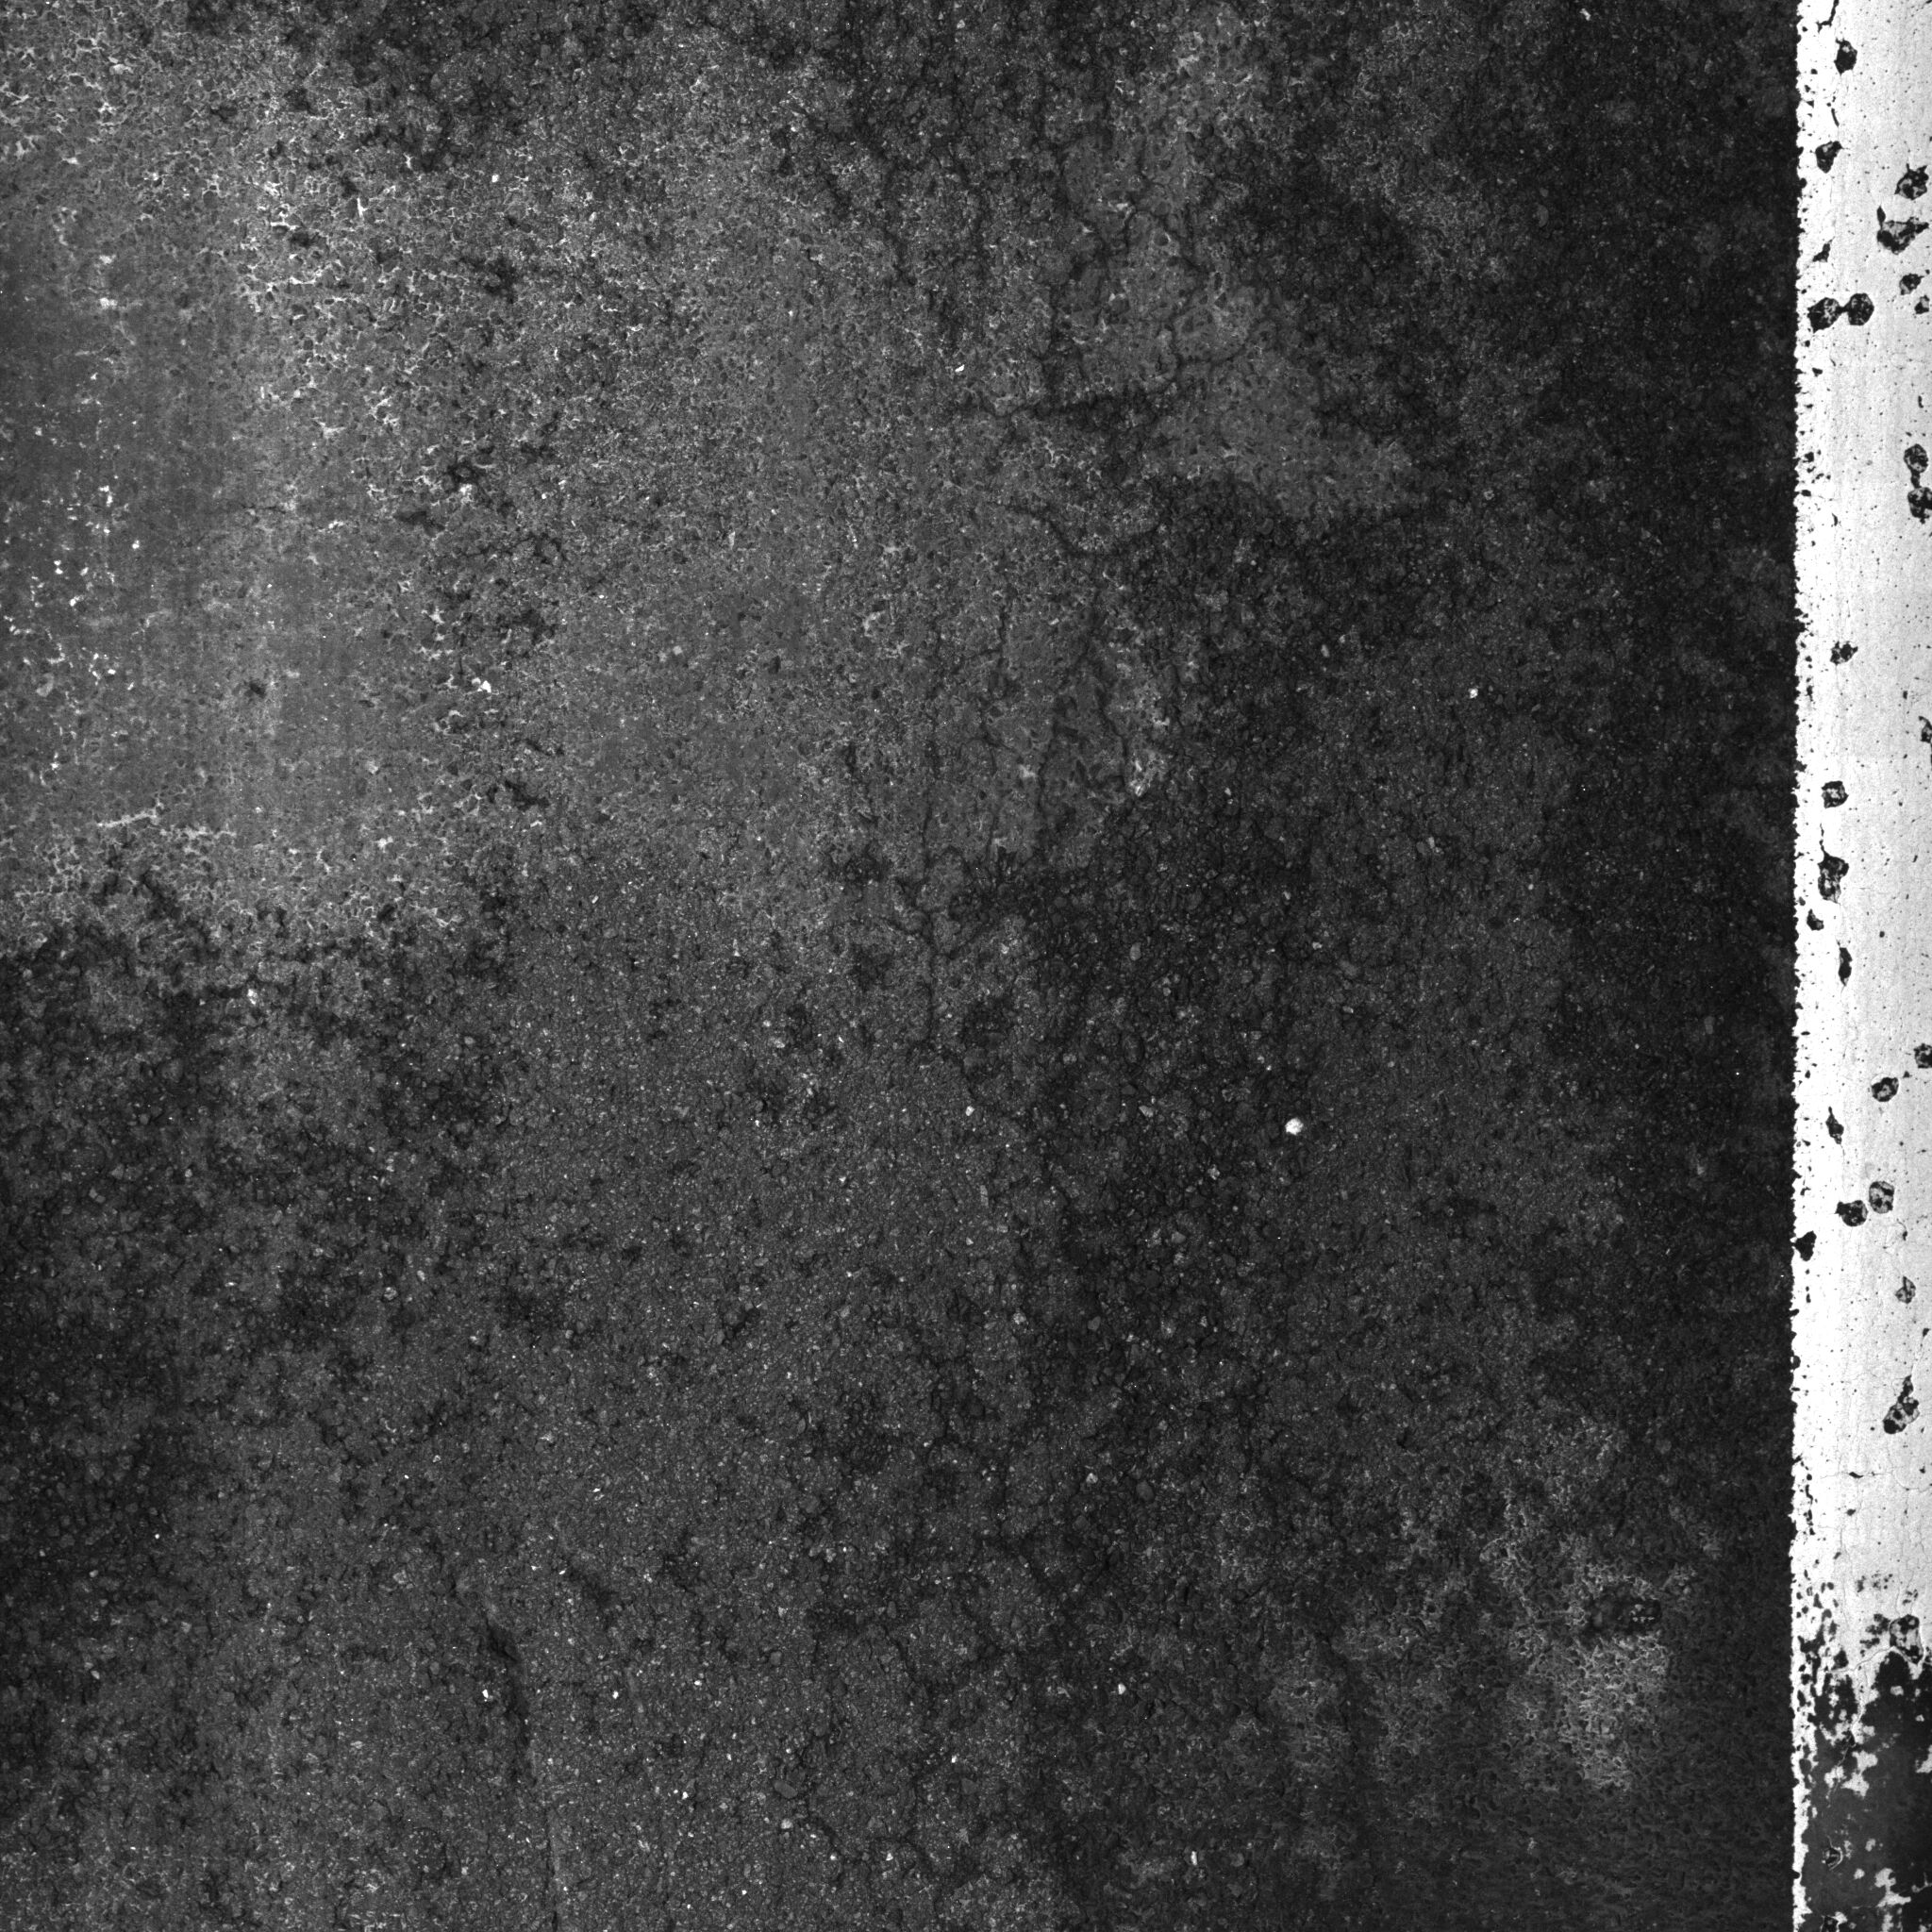alligator: (662, 2, 1599, 1905)
